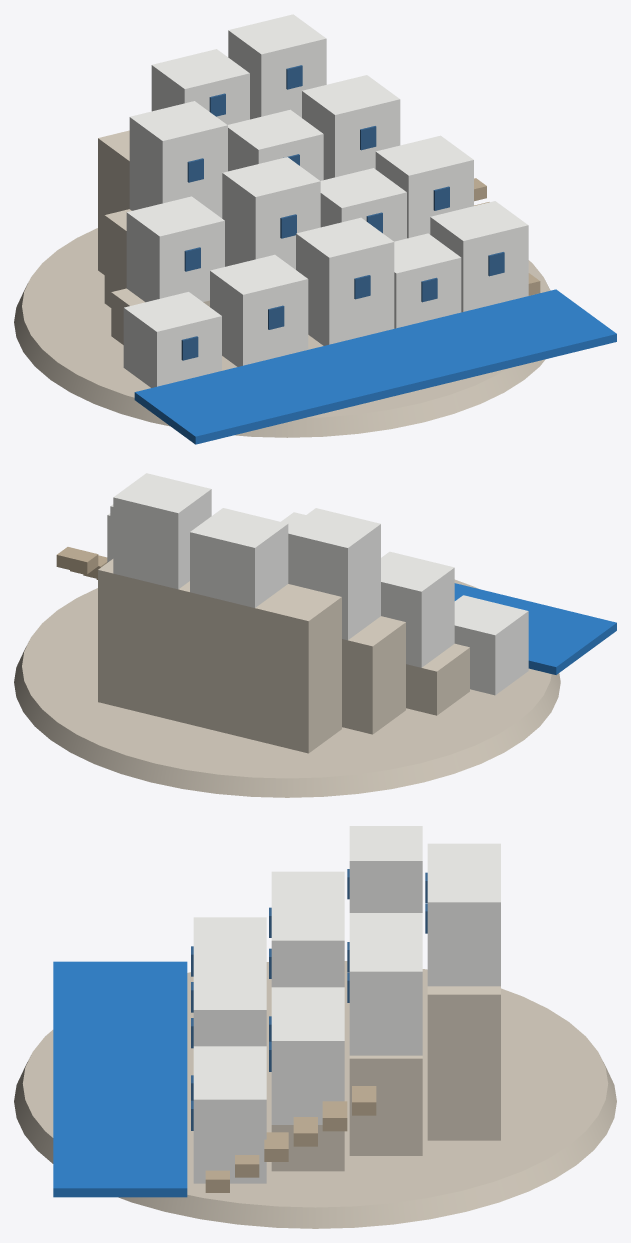
Rendered from casbah.glb.
3 renders of one model, top to bottom at view 1: azimuth 30°, elevation 25°; view 2: azimuth 150°, elevation 25°; view 3: azimuth 270°, elevation 25°, orthographic. The views are drawn at different scales.
Visible parts, largest first — view 1: house, sea, ground; view 2: house, ground, sea, stairs; view 3: house, ground, sea, stairs.
Part boxes in pixels (box(x1,y1,x2,y2)): house: box(98, 14, 528, 387); sea: box(134, 289, 616, 444); ground: box(14, 228, 550, 437); house: box(98, 473, 528, 753); ground: box(14, 579, 560, 797); sea: box(454, 583, 616, 674); stairs: box(56, 547, 107, 579); house: box(191, 826, 500, 1183); ground: box(14, 961, 616, 1228); sea: box(53, 961, 187, 1197); stairs: box(205, 1086, 376, 1192).
Size of the model in its own units: 2.47 by 1.12 by 2.47.
